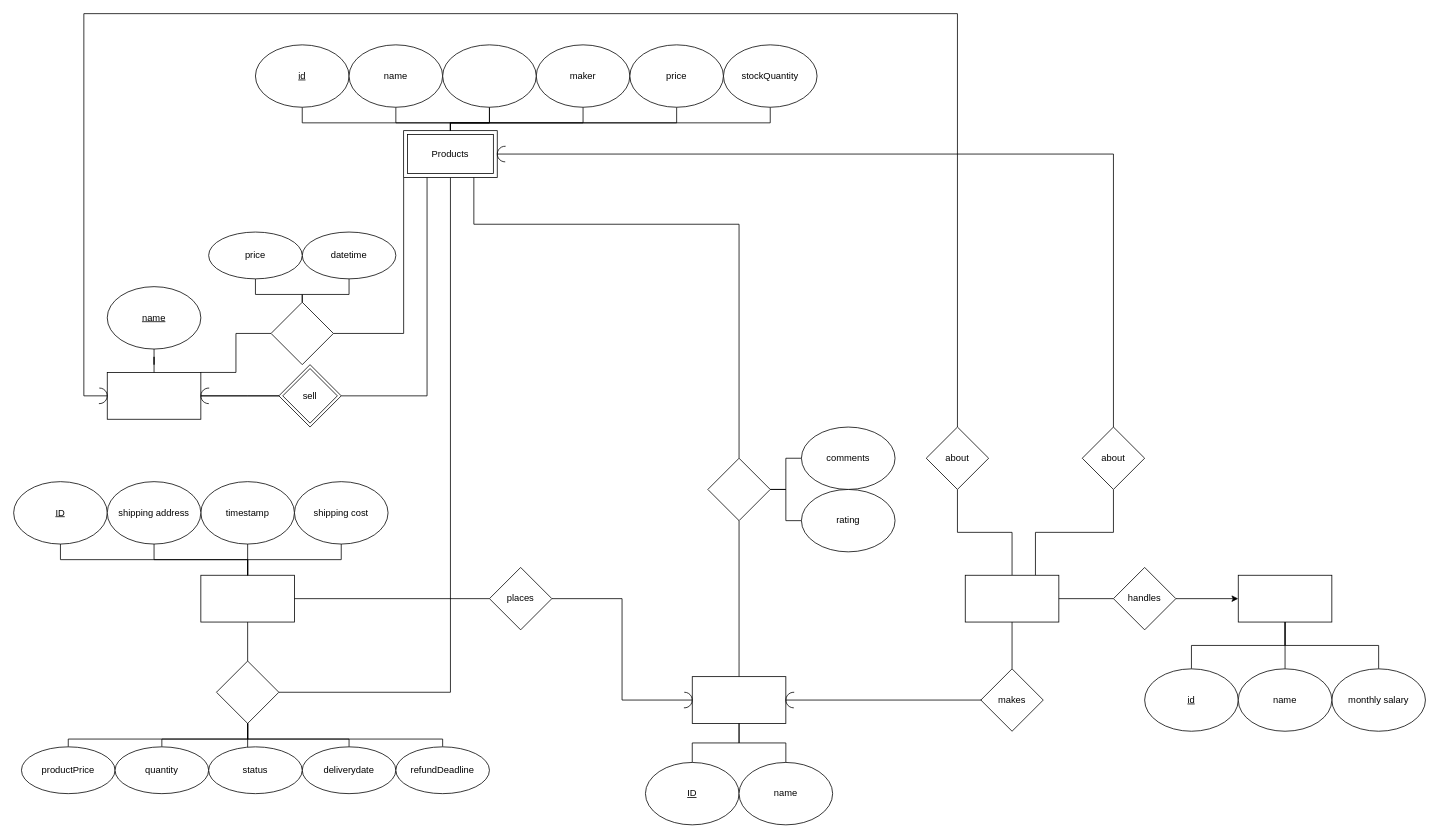
Image size: 1439x838. Some labels were removed from this diagram. Each missing label, with the centre of its shape:
category: [489,75]
Complaint: [1011,598]
contains: [247,691]
Employees: [1284,598]
history: [301,333]
Orders: [247,598]
RATE: [738,489]
Shops: [153,395]
Users: [738,699]
